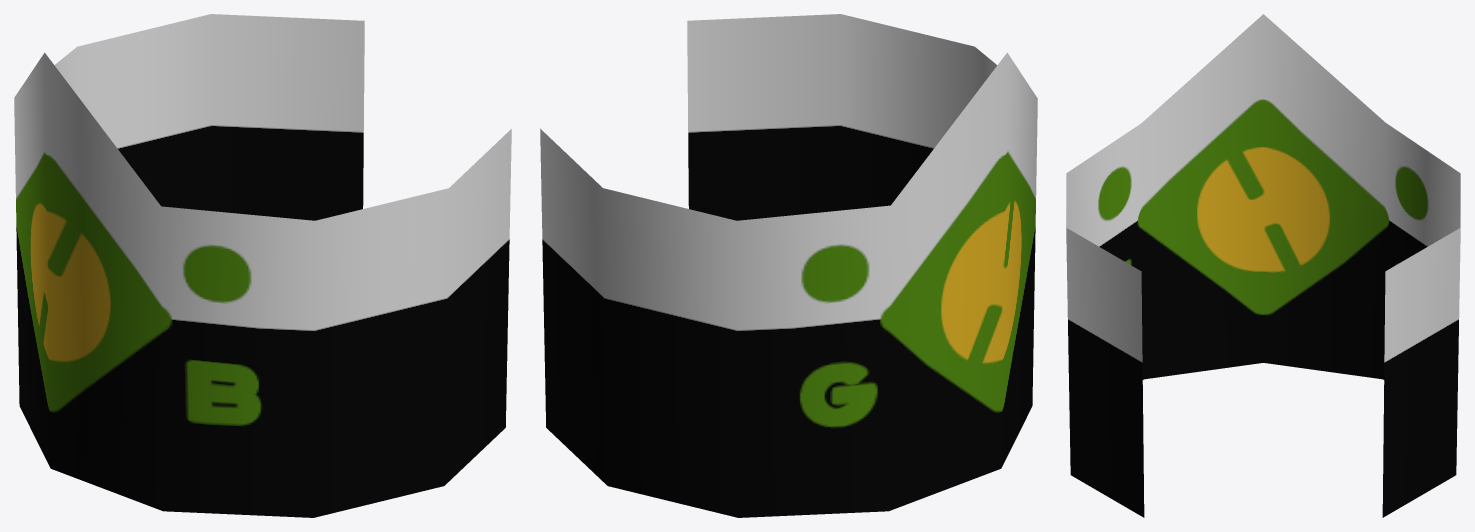
Rendered from Bottle_Import_Label_04.fbx.
3 views of the same model, side by side, from view 1: azimuth 30°, elevation 25°; view 2: azimuth 150°, elevation 25°; view 3: azimuth 270°, elevation 25° (orthographic). The views are drawn at different scales.
Parts seen in each view (by area): view 1: Bottle_Import_Label_01; view 2: Bottle_Import_Label_01; view 3: Bottle_Import_Label_01.
Part boxes in pixels (<box>): Bottle_Import_Label_01: <box>14,14,511,517</box>; Bottle_Import_Label_01: <box>540,14,1037,517</box>; Bottle_Import_Label_01: <box>1066,14,1460,517</box>.
Size of the model in its own units: 29.79 by 30.21 by 31.19.
